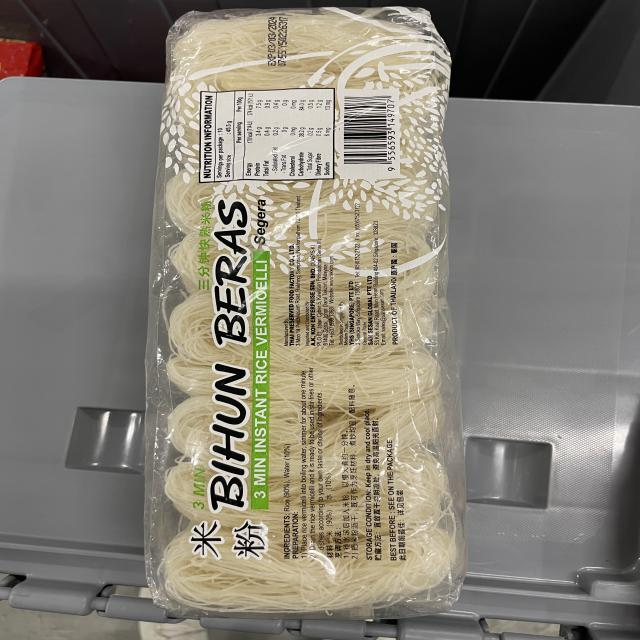object_name: (170, 21, 460, 602)
